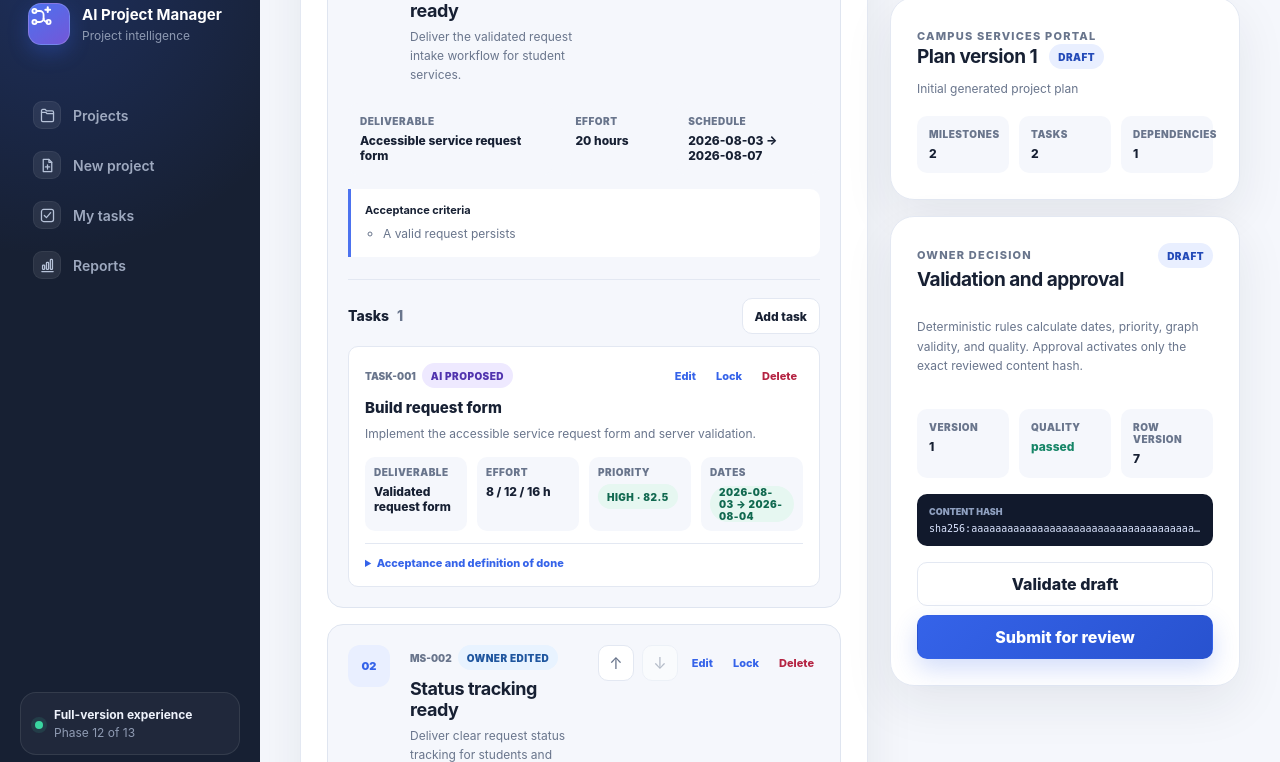
it: plan review experience › surfaces a recoverable optimistic-concurrency conflict
(page scrolled)
Check: the list item "Build request form" is shown, box [348,346,820,587]
Click the button "Lock" below "2026-08-07" at (729, 376), box [710,368,748,384]
(page scrolled)
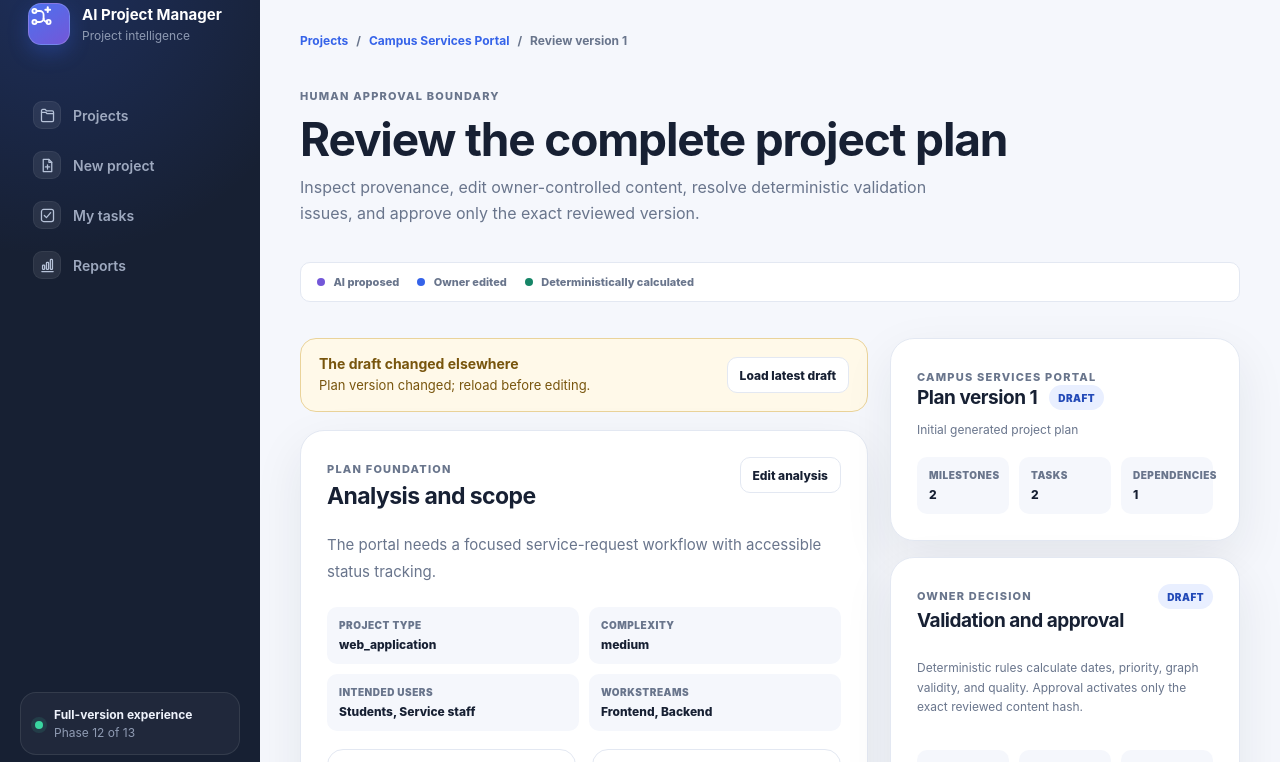
Check: the text "The draft changed elsewhere" is shown, box [319,355,518,372]
Check: the button "Load latest draft" is shown, box [727,357,849,393]
